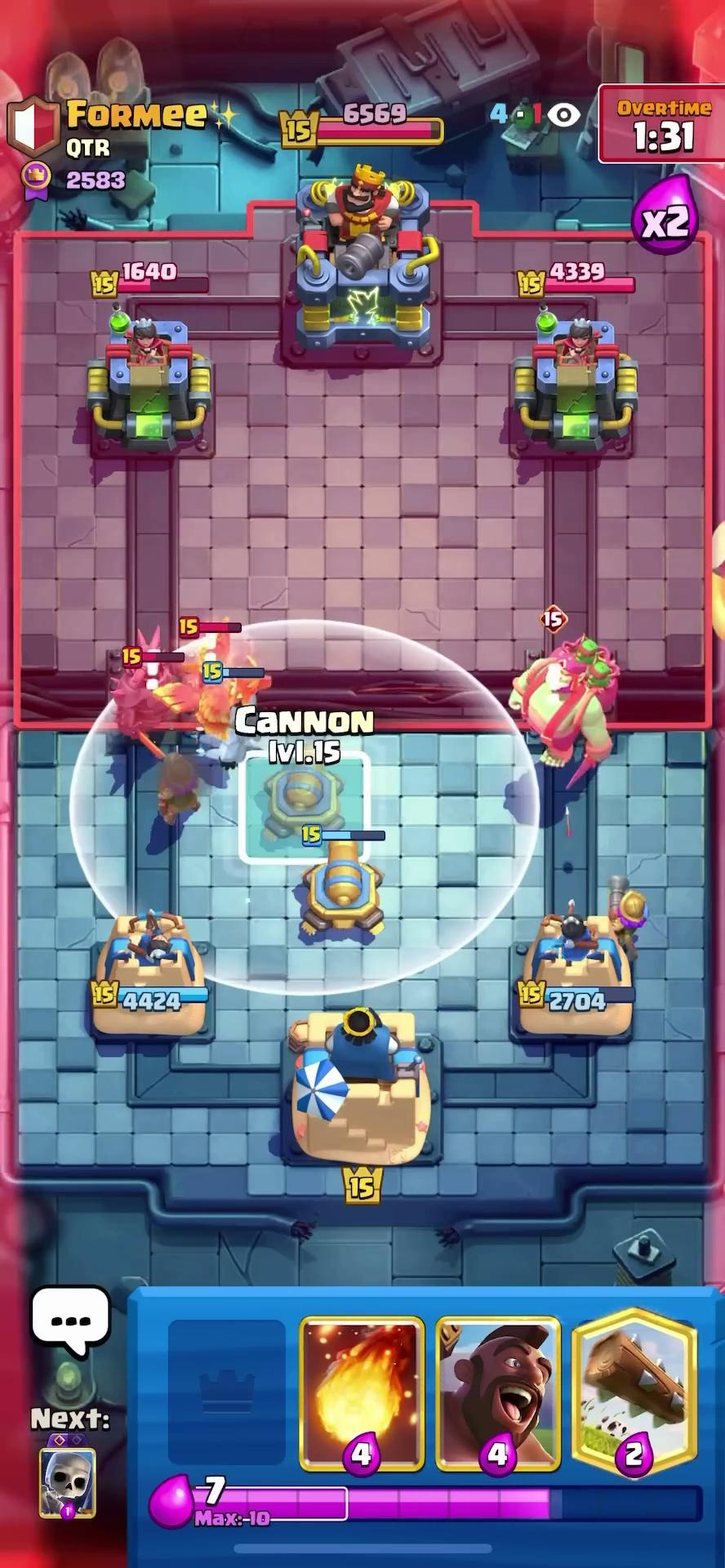cannon: (290, 823, 398, 951)
ice_golem: (206, 692, 255, 776)
musketeer: (592, 868, 678, 949), (143, 737, 212, 821)
